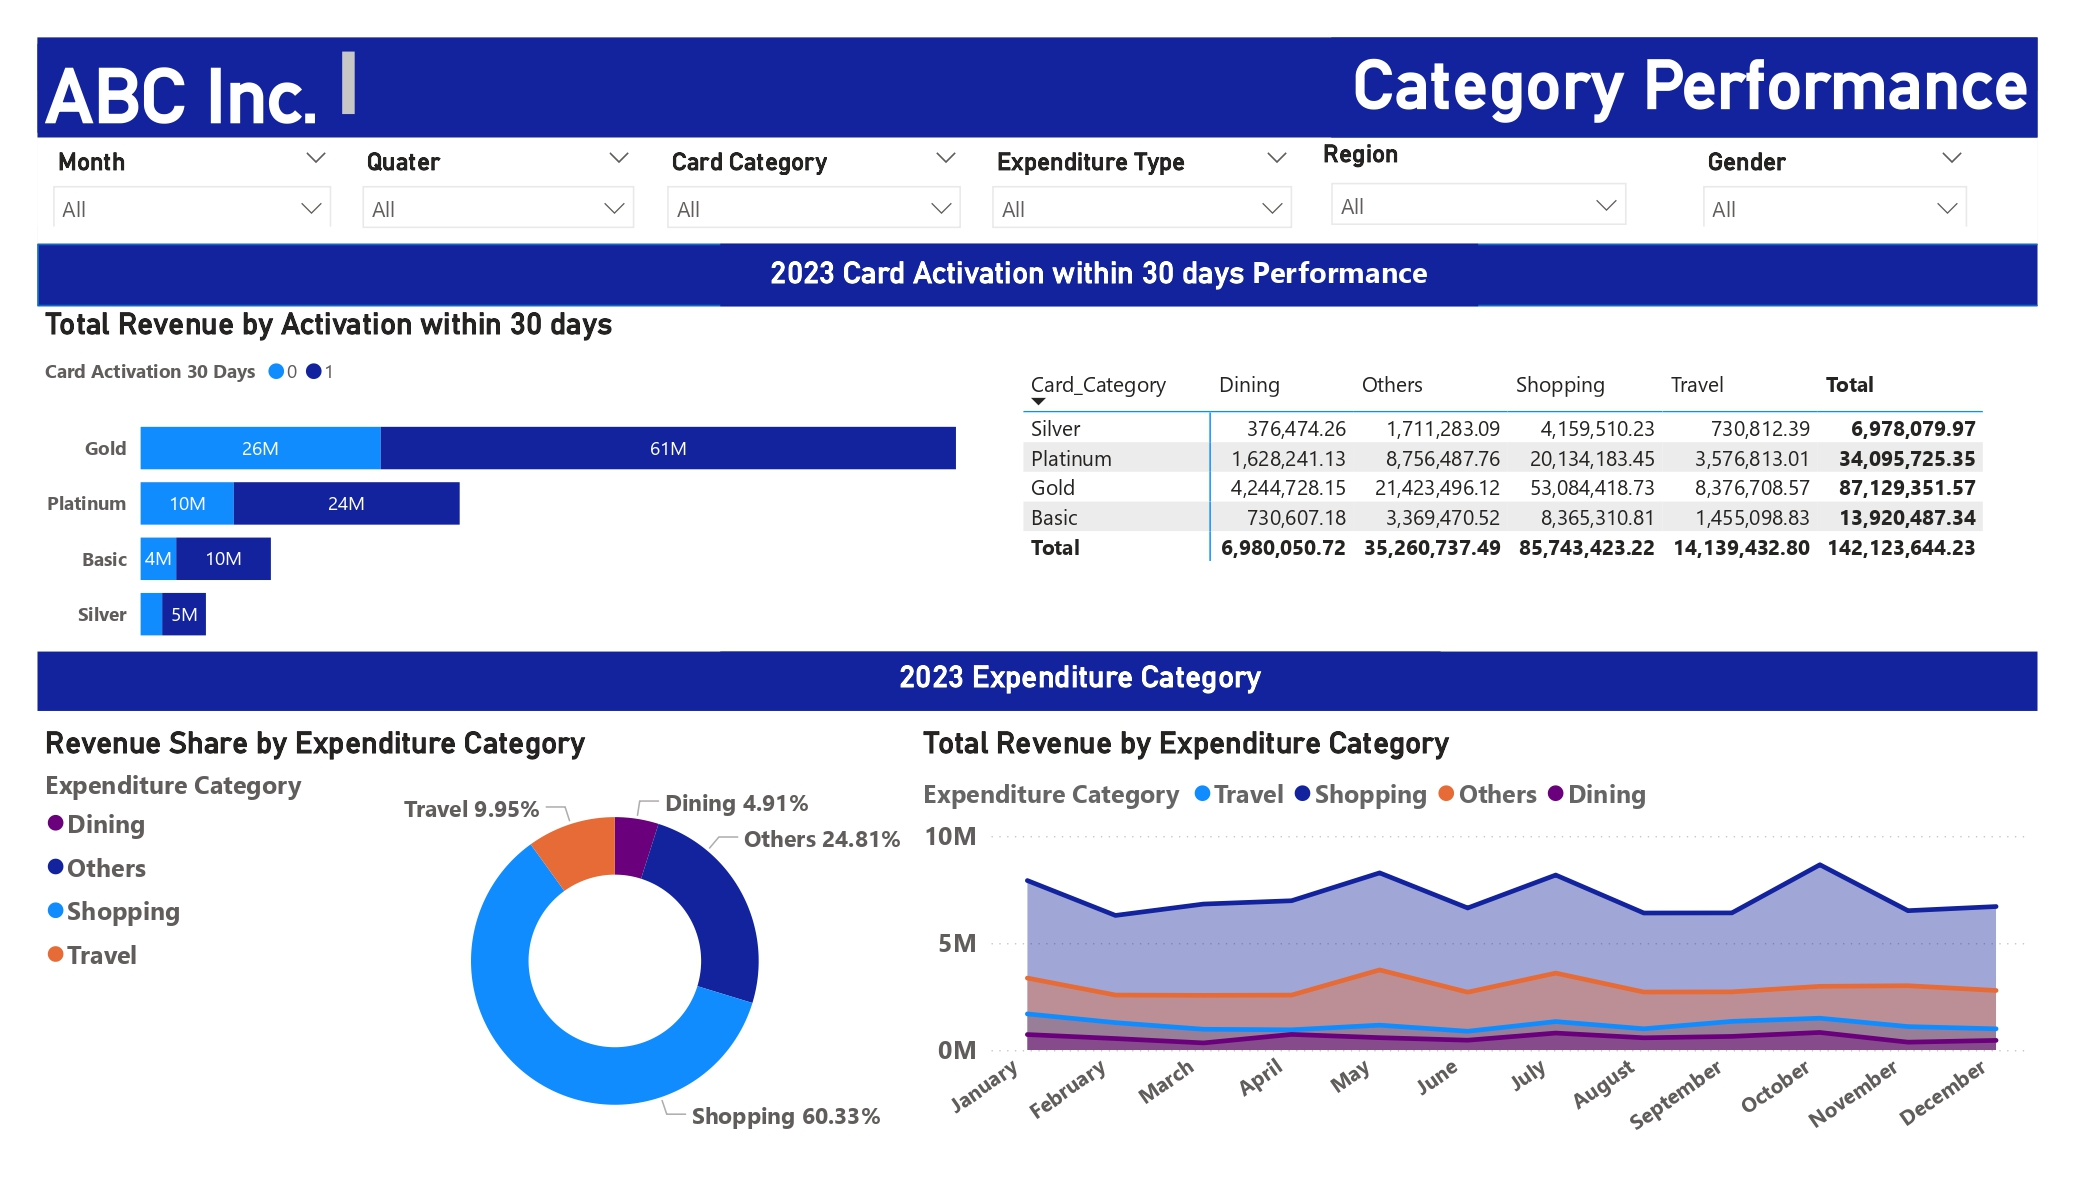

This screenshot's page, from the dashboard's own definition file:
{"tool":"powerbi","page":{"name":"Category  Performance","canvas":[1280,720],"ordinal":3},"visuals":[{"type":"donutChart","title":"Revenue Share by Expenditure Category","fields":{"Y":["Sum(credit_card_detail_1103.Total_Revenue)"],"Series":["credit_card_detail_1103.Exp_Type"]},"box":[0,439.7,561.7,280.3],"z":0},{"type":"barChart","title":"Total Revenue by Activation within 30 days","fields":{"Category":["credit_card_detail_1103.Card_Category"],"Y":["Sum(credit_card_detail_1103.Total_Revenue)"],"Series":["credit_card_detail_1103.Activation_30_Days"]},"box":[0,171.7,610.3,231.7],"z":1000},{"type":"pivotTable","fields":{"Rows":["credit_card_detail_1103.Card_Category"],"Columns":["credit_card_detail_1103.Exp_Type"],"Values":["Sum(credit_card_detail_1103.Total_Revenue)"]},"box":[625.9,206.9,653.8,160.3],"z":2000},{"type":"shape","box":[0,131.6,1280.6,40.3],"z":3000},{"type":"slicer","fields":{"Values":["credit_card_detail_1103.Qtr"]},"box":[197.5,64.8,194.3,58.3],"z":4000},{"type":"slicer","fields":{"Values":["credit_card_detail_1103.Card_Category"]},"box":[393.5,64.8,207.3,58.3],"z":5000},{"type":"slicer","fields":{"Values":["customer_detail_1103.Gender"]},"box":[1055.7,64.8,189.4,56.7],"z":6000},{"type":"slicer","fields":{"Values":["credit_card_detail_1103.Exp_Type"]},"box":[600.7,64.8,212.1,58.3],"z":7000},{"type":"slicer","title":"Region","fields":{"Values":["customer_detail_1103.State_cd"]},"box":[817.7,64.8,208.9,56.7],"z":8000},{"type":"slicer","fields":{"Values":["credit_card_detail_1103.Month"]},"box":[0,64.8,197.5,56.7],"z":9000},{"type":"shape","box":[0,0,1280.6,64.5],"z":10000},{"type":"shape","box":[0,393.1,1280.6,37.6],"z":11000},{"type":"lineChart","title":"Total Revenue by Expenditure Category","fields":{"Category":["credit_card_detail_1103.Week_Start_Date.Variation.Date Hierarchy.Month"],"Y":["Sum(credit_card_detail_1103.Total_Revenue)"],"Series":["credit_card_detail_1103.Exp_Type"]},"box":[561.9,440.4,718.9,280.1],"z":12000},{"type":"textbox","box":[0,3.6,207.8,57.3],"z":13000},{"type":"textbox","box":[828.4,0,451.3,64.5],"z":14000},{"type":"textbox","box":[437,131.6,485.4,40.3],"z":15000},{"type":"textbox","box":[437,393.1,461.2,34.9],"z":16000}]}

Visuals, with their boxes on the page's 1280x720 design canvas (x1, y1, x2, y2). These are canvas units, not pixel positions in the 2075x1200 screenshot, which may show the page scaled, cropped or inside an application window:
"Revenue Share by Expenditure Category" donutChart: <bbox>0, 440, 562, 720</bbox>
"Total Revenue by Activation within 30 days" barChart: <bbox>0, 172, 610, 403</bbox>
pivotTable - credit_card_detail_1103.Card_Category x credit_card_detail_1103.Exp_Type: <bbox>626, 207, 1280, 367</bbox>
shape: <bbox>0, 132, 1281, 172</bbox>
slicer - credit_card_detail_1103.Qtr: <bbox>198, 65, 392, 123</bbox>
slicer - credit_card_detail_1103.Card_Category: <bbox>394, 65, 601, 123</bbox>
slicer - customer_detail_1103.Gender: <bbox>1056, 65, 1245, 122</bbox>
slicer - credit_card_detail_1103.Exp_Type: <bbox>601, 65, 813, 123</bbox>
"Region" slicer: <bbox>818, 65, 1027, 122</bbox>
slicer - credit_card_detail_1103.Month: <bbox>0, 65, 198, 122</bbox>
shape: <bbox>0, 0, 1281, 64</bbox>
shape: <bbox>0, 393, 1281, 431</bbox>
"Total Revenue by Expenditure Category" lineChart: <bbox>562, 440, 1281, 720</bbox>
textbox: <bbox>0, 4, 208, 61</bbox>
textbox: <bbox>828, 0, 1280, 64</bbox>
textbox: <bbox>437, 132, 922, 172</bbox>
textbox: <bbox>437, 393, 898, 428</bbox>
